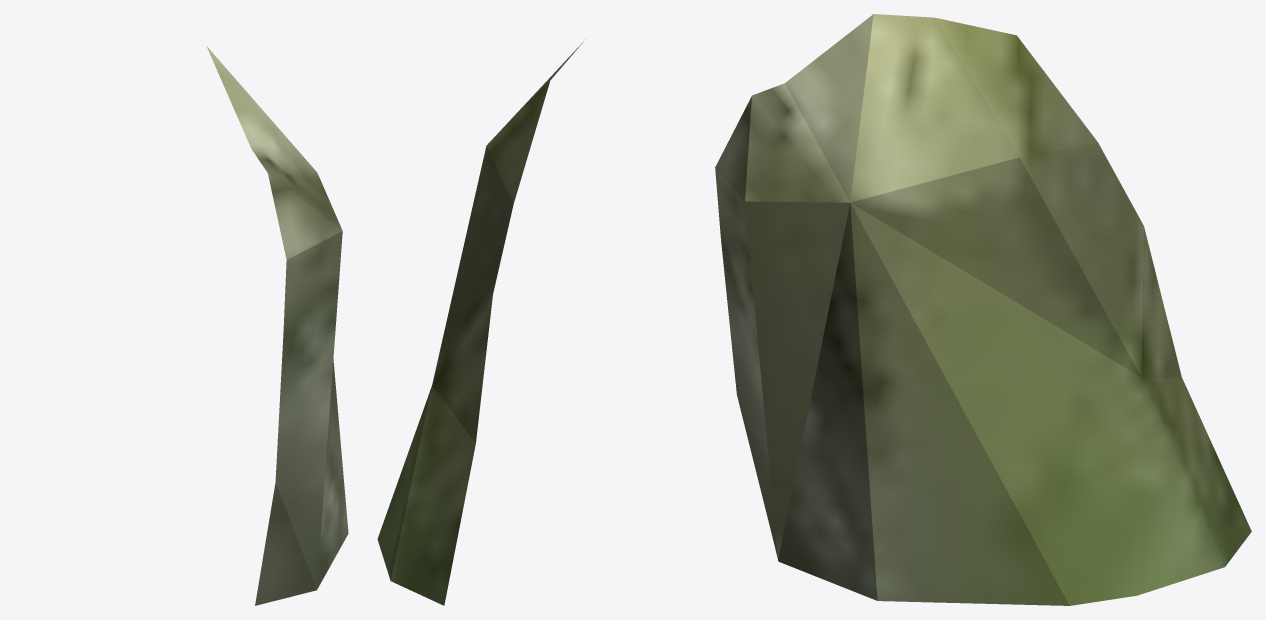
3 views of the same model, side by side, from view 1: azimuth 30°, elevation 25°; view 2: azimuth 150°, elevation 25°; view 3: azimuth 270°, elevation 25° (orthographic). The views are drawn at different scales.
Bounding box in the file's own units: 0.1051 × 0.341 × 0.3205.
Materials: 1 (1 with a texture image).
